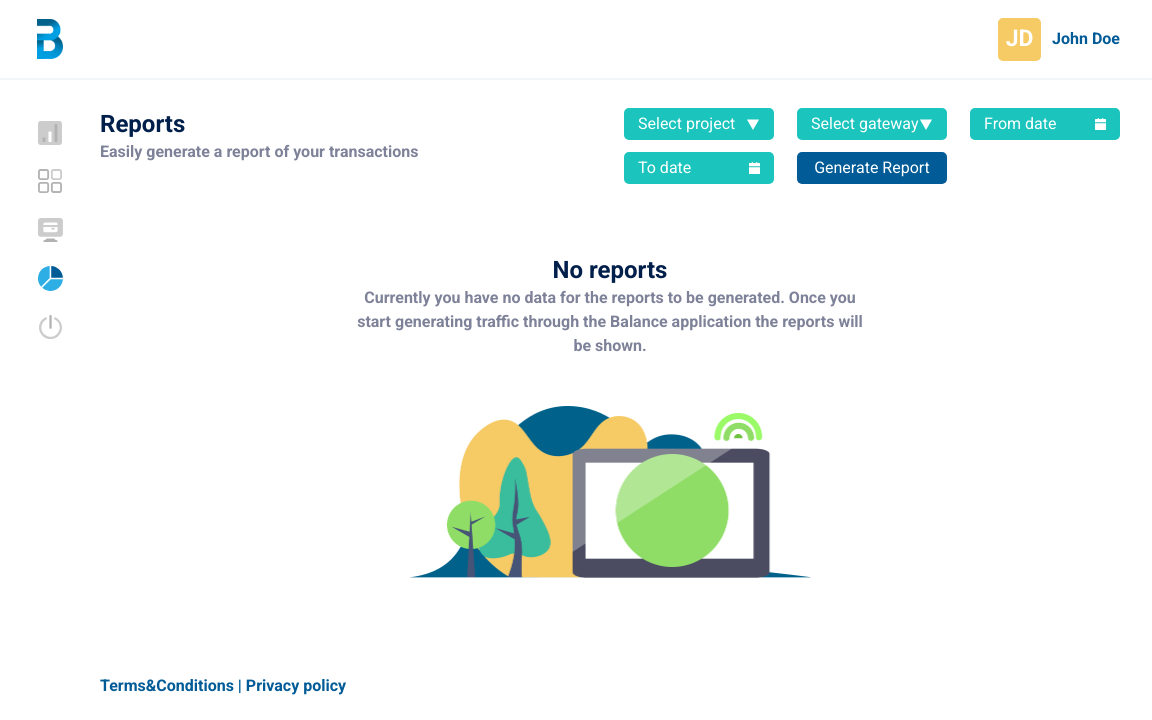
Generate report › allow selection of a gateway
Click the button "Select gateway".
click(872, 124)  # box [797,108,947,140]
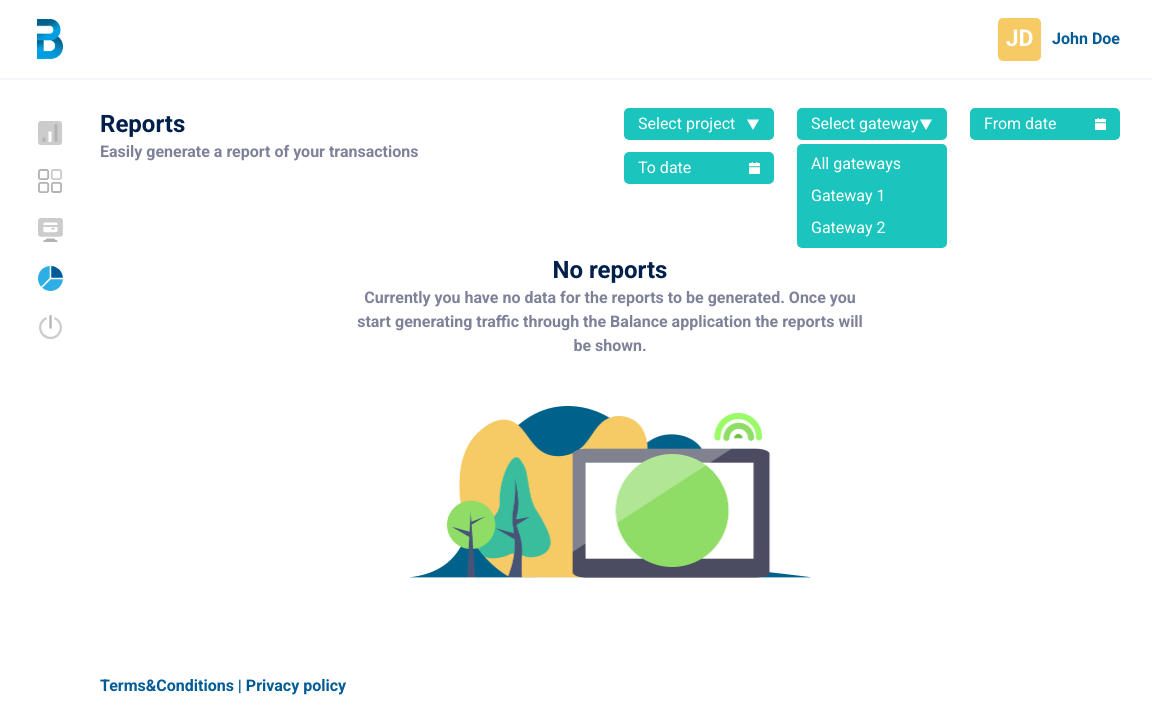
Click the option "Gateway 1".
click(849, 196)  # box [811,186,886,205]
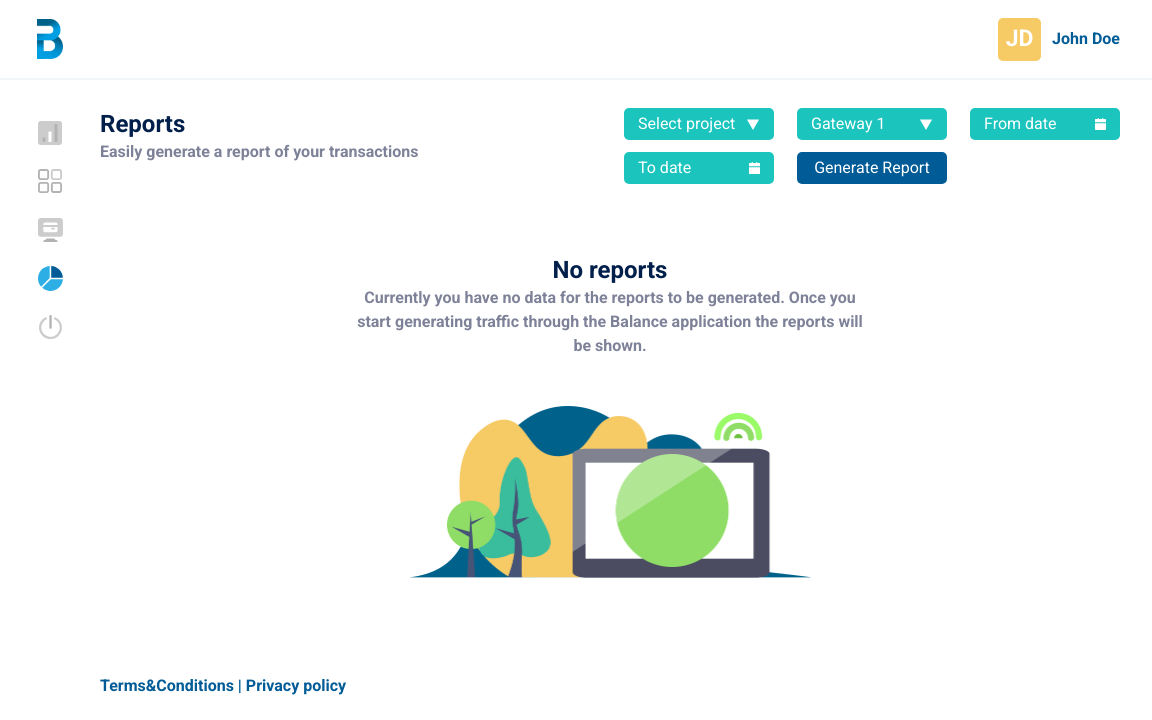
Expected: the button "Gateway 1" is shown, [797,108,947,140]
